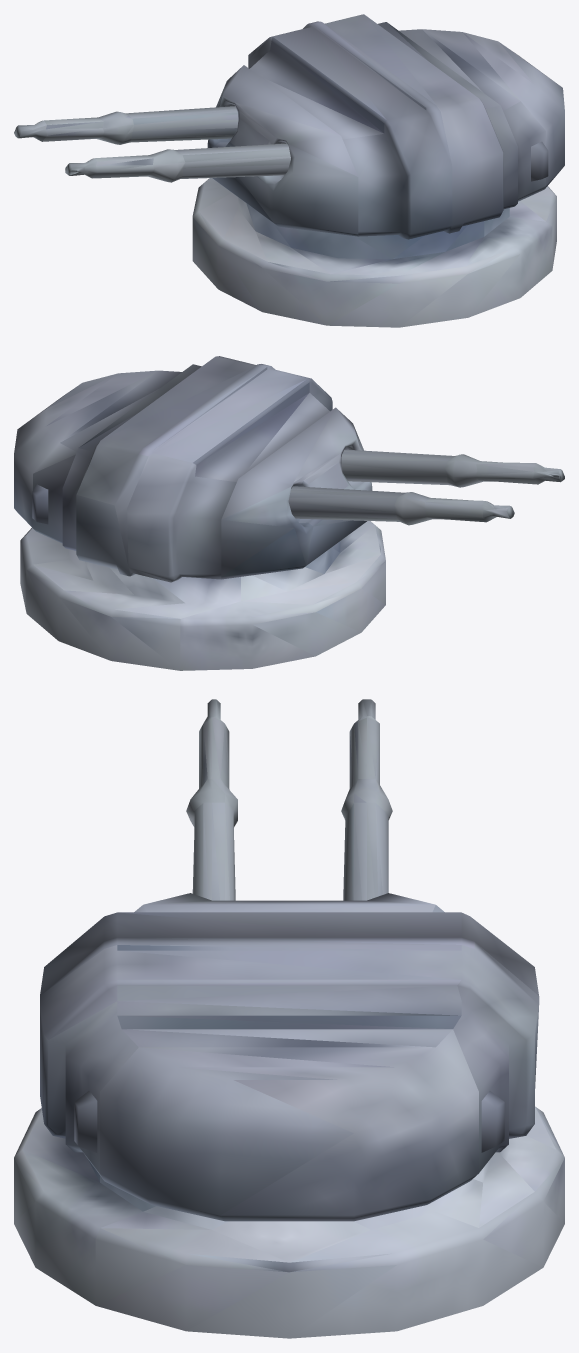
File: 整備庫_16_雙管砲塔.glb
3 views of the same model, one above another, from view 1: azimuth 30°, elevation 25°; view 2: azimuth 150°, elevation 25°; view 3: azimuth 270°, elevation 25° (orthographic). The views are drawn at different scales.
Parts seen in each view (by area): view 1: 16_雙管砲塔; view 2: 16_雙管砲塔; view 3: 16_雙管砲塔.
Boxes of the visible parts, x1,y1,x2,y2 form: 16_雙管砲塔: (14,14,564,327); 16_雙管砲塔: (14,356,564,670); 16_雙管砲塔: (14,699,564,1338).
Size of the model in its own units: 0.0981 by 0.0352 by 0.0625.
Materials: 1 (1 with a texture image).
